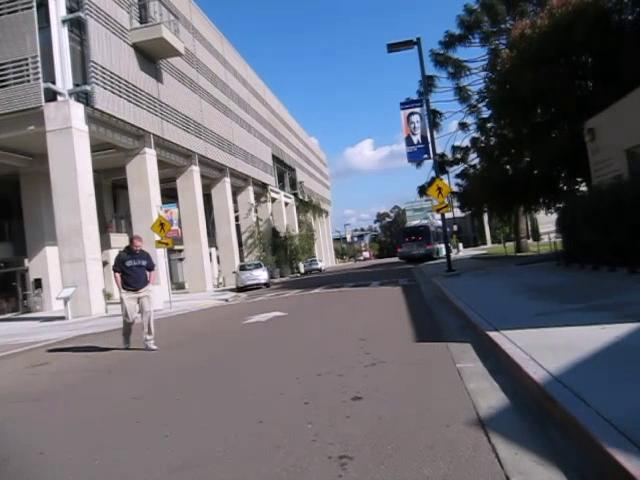pedestrianCrossing: (425, 176, 452, 204), (149, 214, 173, 237)
